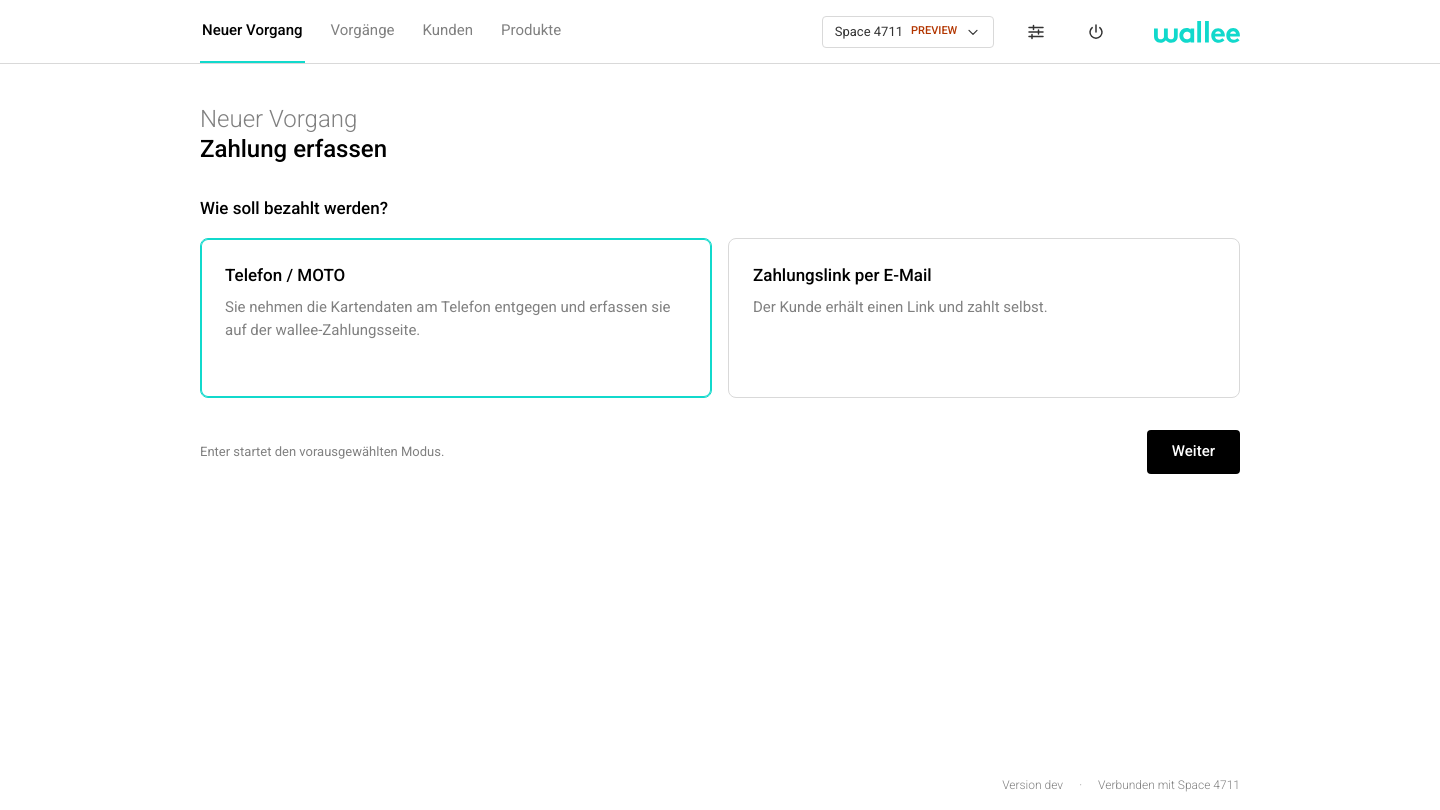
Test: mode selection › remembers the chosen mode and makes e-mail mandatory for links
Click the button "Zahlungslink per E-Mail". click: (984, 318)
box: [728, 238, 1240, 398]
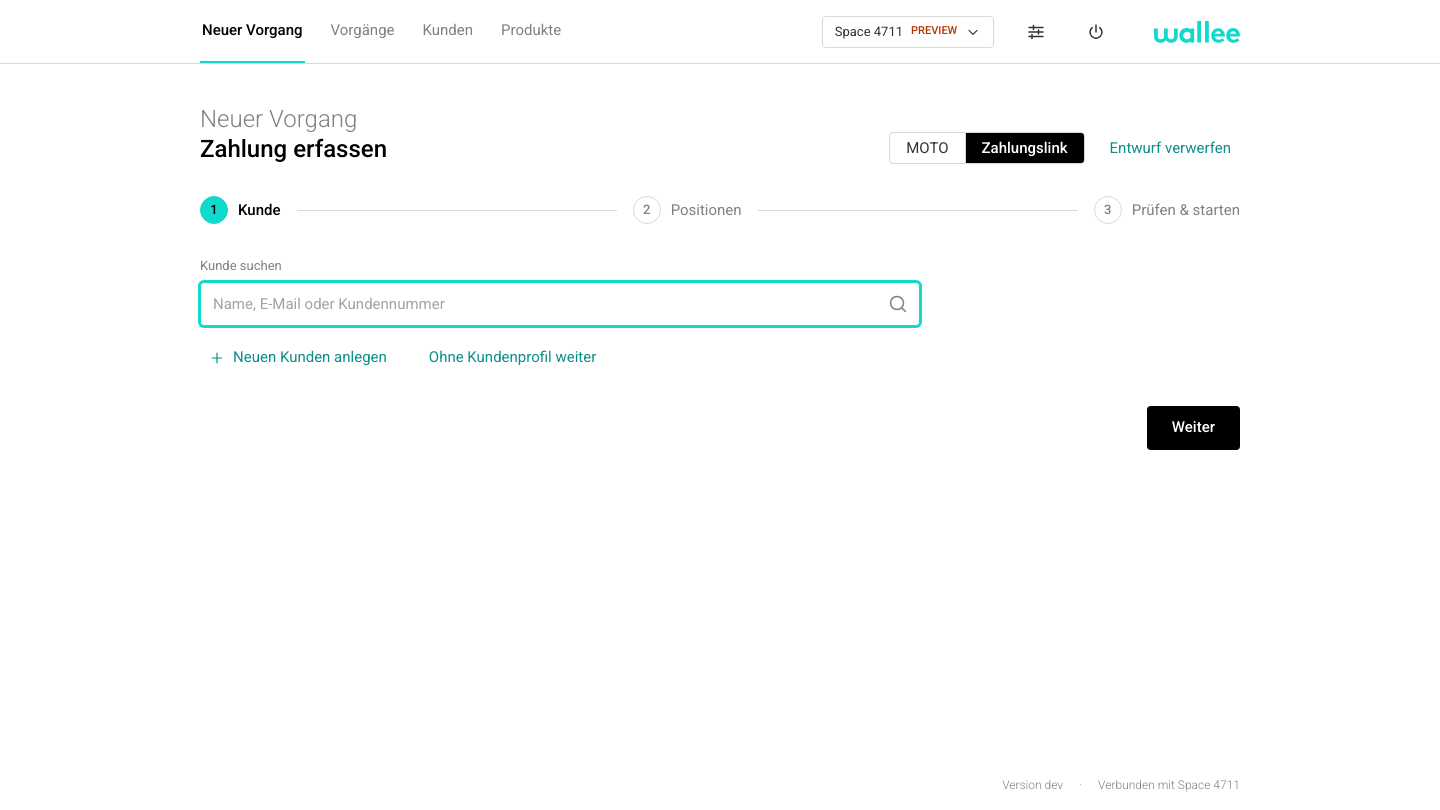
Click the button "Weiter". click: (1193, 428)
box: [1147, 406, 1240, 450]
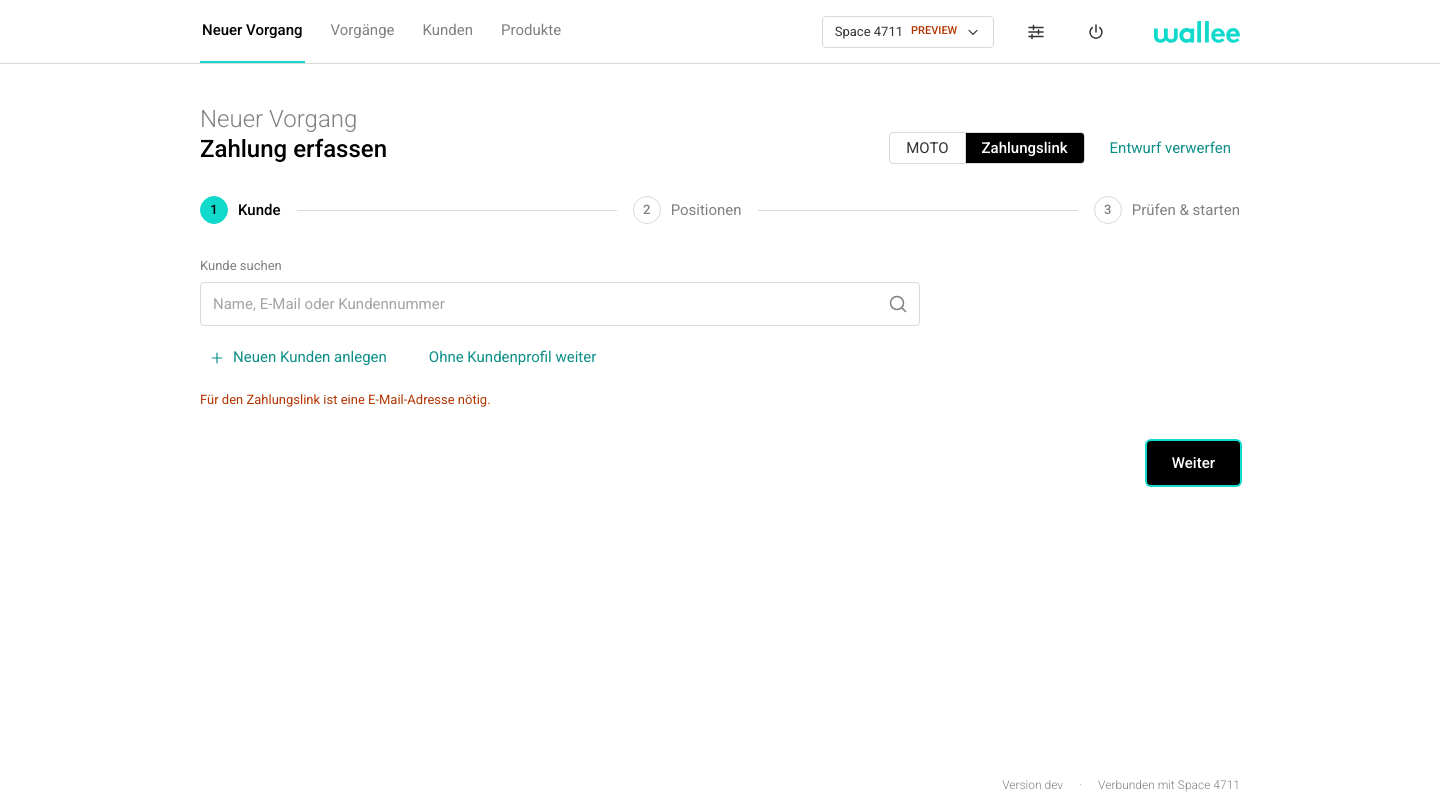
Now the text "Für den Zahlungslink ist eine E-Mail-Adresse nötig." is shown, box [200, 392, 491, 406]
Click the radio button labelled "MOTO". click: (928, 148)
box: [890, 133, 966, 163]
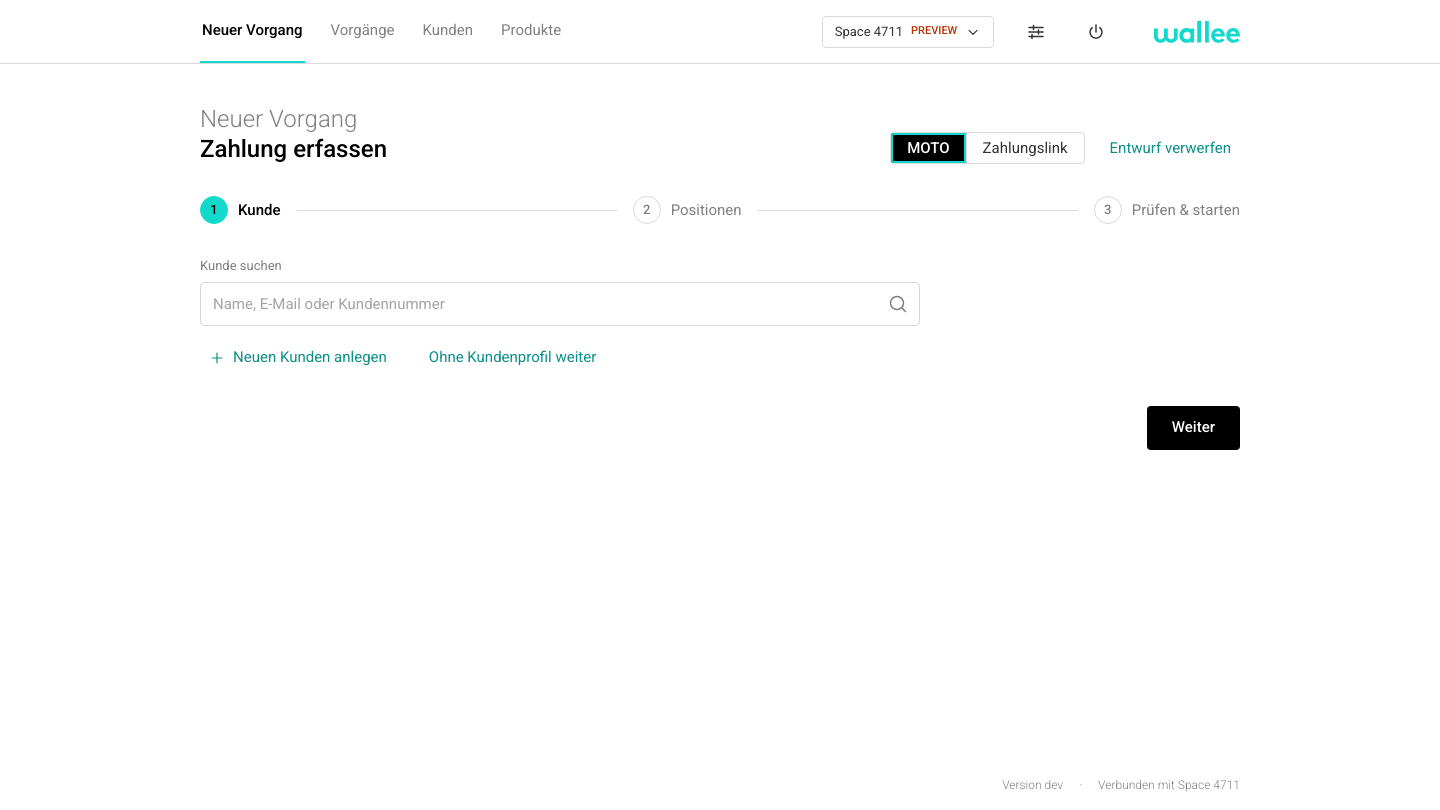
Click the button "Weiter". click: (1193, 428)
box: [1147, 406, 1240, 450]
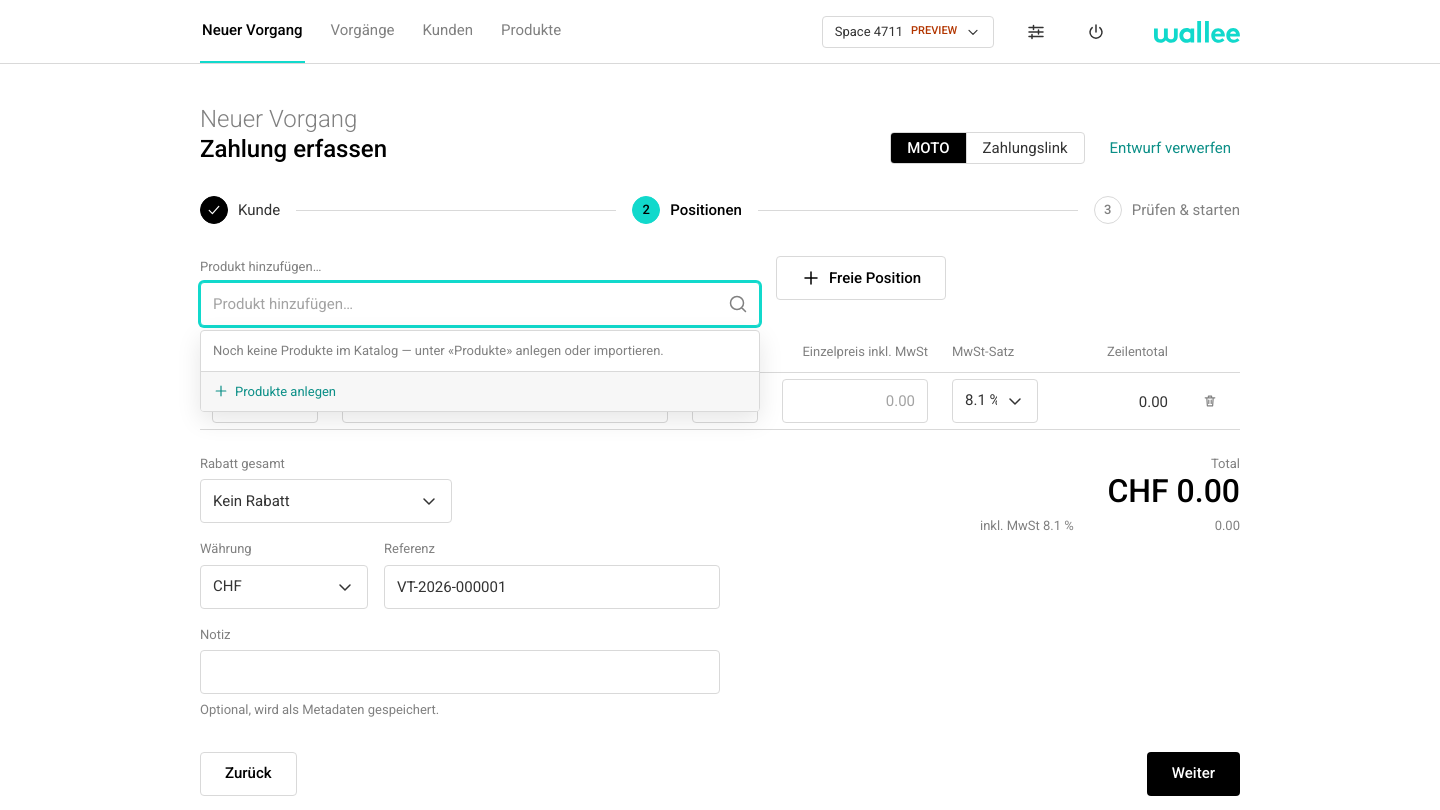
Now the field named "Bezeichnung 1" is shown, box [342, 378, 668, 422]
